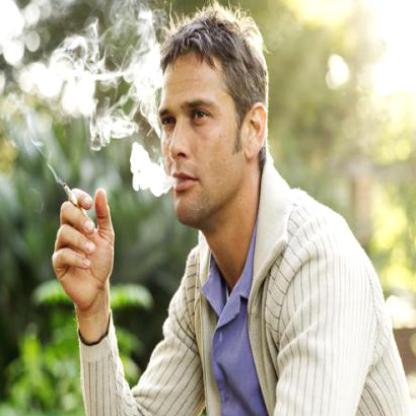cigarette: (62, 182, 80, 209)
person: (149, 6, 370, 415)
smoke: (78, 0, 163, 157), (124, 143, 167, 200)
